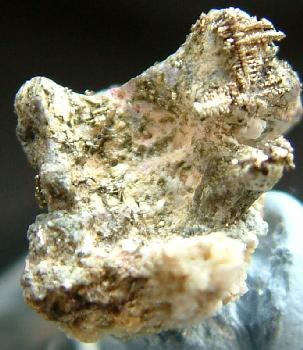silver: (218, 11, 300, 92), (73, 96, 132, 162), (195, 157, 253, 224), (194, 80, 233, 120)
